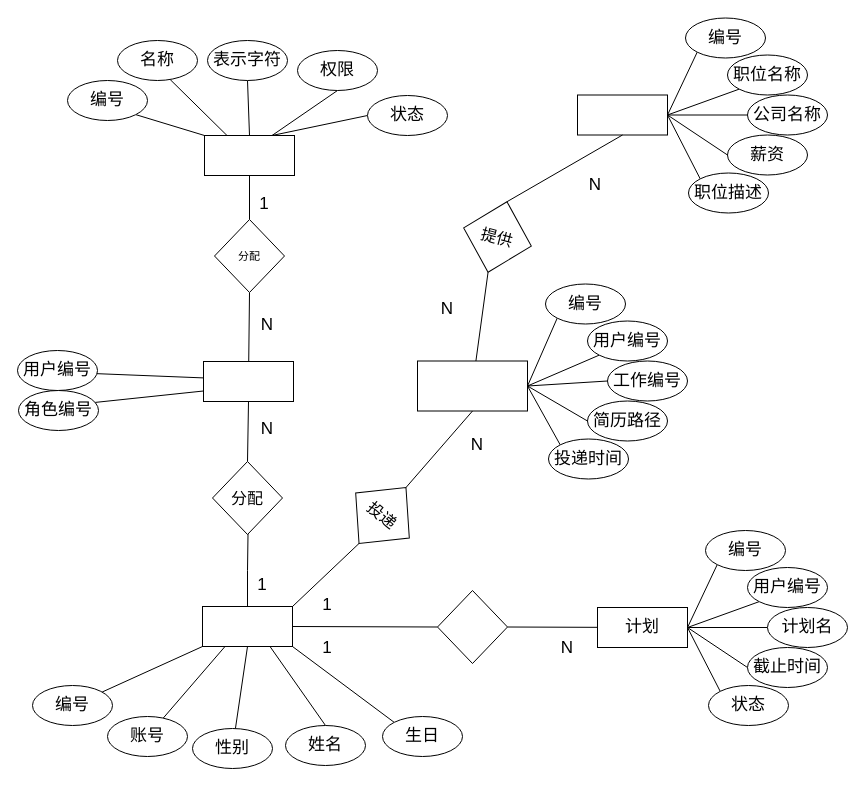
Image size: 865x786. Some labels were removed from this diagram. The shapes that lost their labels are listed below. From the top down, each one's box as (x1, y1, x2, y2) in pixels, then its label:
(576, 94, 668, 135): 工作
(204, 134, 294, 176): 角色
(202, 360, 294, 402): 用户角色
(416, 360, 528, 411): 用户投递工作
(202, 606, 292, 646): 用户
(436, 590, 508, 664): 创建
